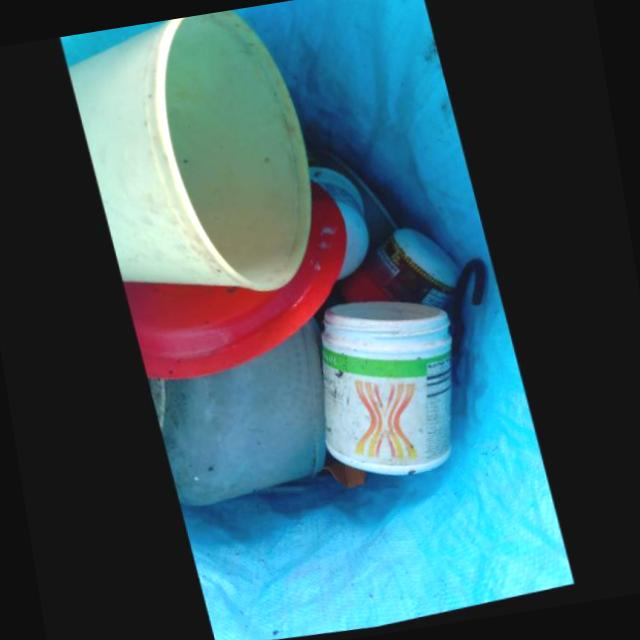hop_nhua: (69, 10, 314, 295), (124, 186, 349, 384), (148, 311, 329, 514), (322, 304, 455, 480), (351, 234, 462, 317), (309, 167, 371, 283)
